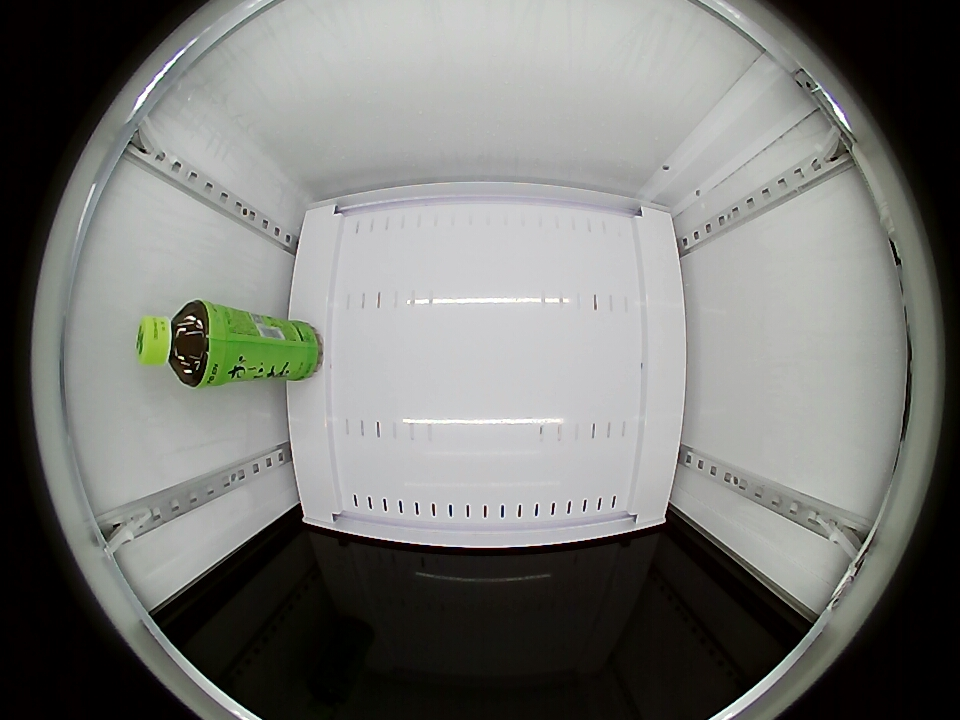yitengyuan: (136, 299, 224, 388)
